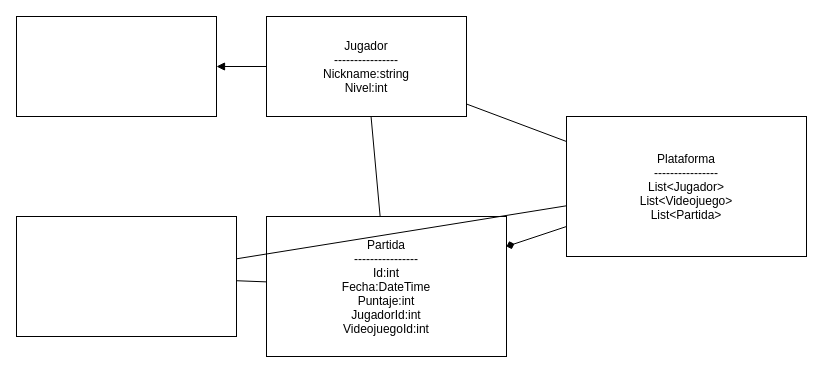
The diagram is 823 pixels wide and 373 high, and some of its shapes have lost their labels. The shapes that lost their labels are listed below. From the top down, each one's box as (x1, y1, x2, y2) in pixels, then its label:
(16, 16, 216, 116): Persona ---------------- Id:int Nombre:string
(16, 216, 236, 336): Videojuego ---------------- Id:int Nombre:string Genero:string Precio:double
